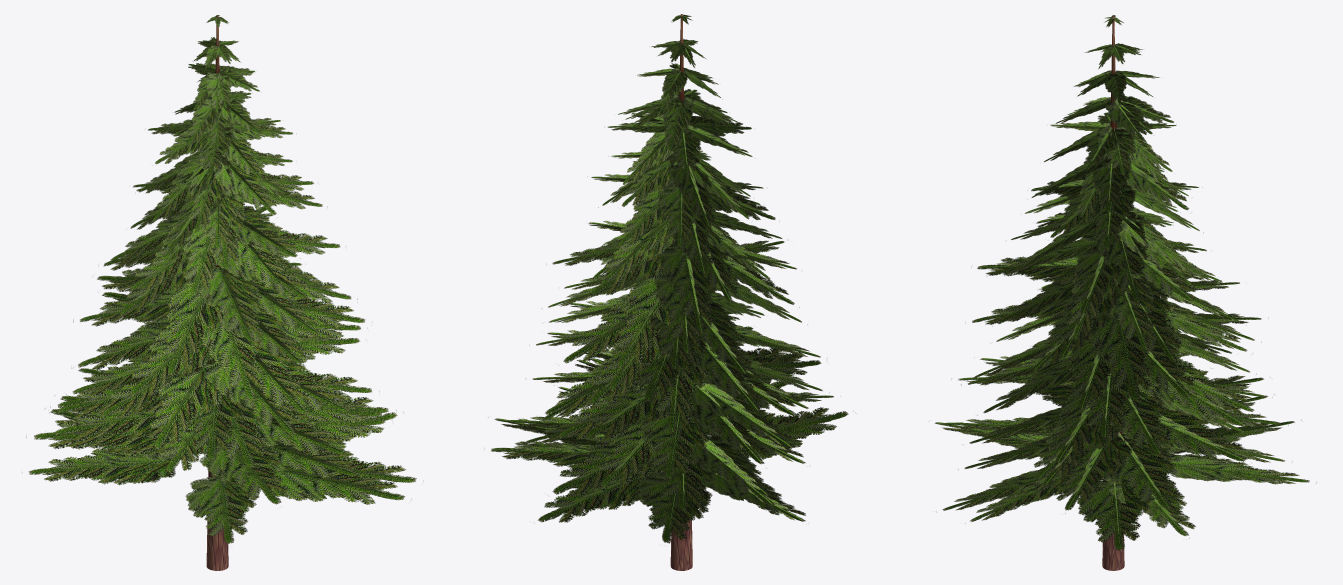
File: Tree.glb
3 views of the same model, side by side, from view 1: azimuth 30°, elevation 25°; view 2: azimuth 150°, elevation 25°; view 3: azimuth 270°, elevation 25° (orthographic).
Parts seen in each view (by area): view 1: Branches, Base; view 2: Branches, Base; view 3: Branches, Base.
Part boxes in pixels (x1=…): Branches: x1=26, y1=15, x2=416, y2=543; Base: x1=206, y1=15, x2=228, y2=570; Branches: x1=491, y1=14, x2=848, y2=543; Base: x1=670, y1=14, x2=692, y2=570; Branches: x1=935, y1=15, x2=1316, y2=550; Base: x1=1102, y1=16, x2=1124, y2=570.
Size of the model in its own units: 3.46 by 4.99 by 3.46.
Materials: 2 (2 with a texture image).
